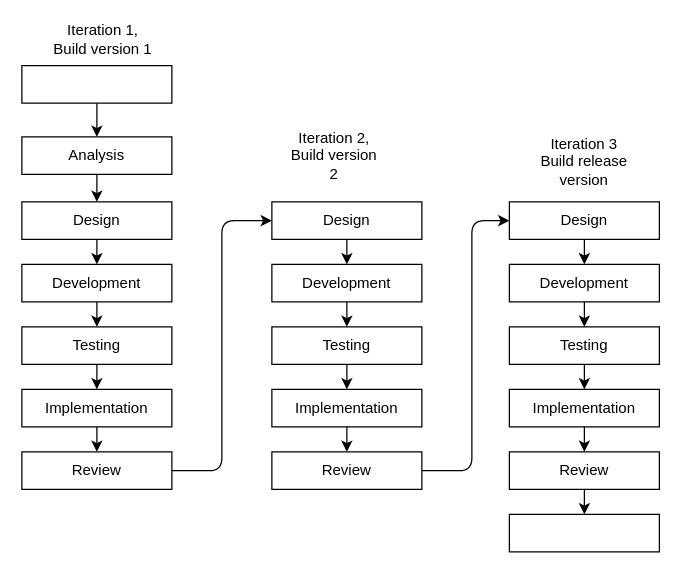
Some shapes in this 681 by 574 pixel diagram are drawn without their labels. Here are the shapes that lost their labels. From the top down, the centre of each, then its label:
At pixel 96 83: "Requirement".
At pixel 583 532: "Deployment".
